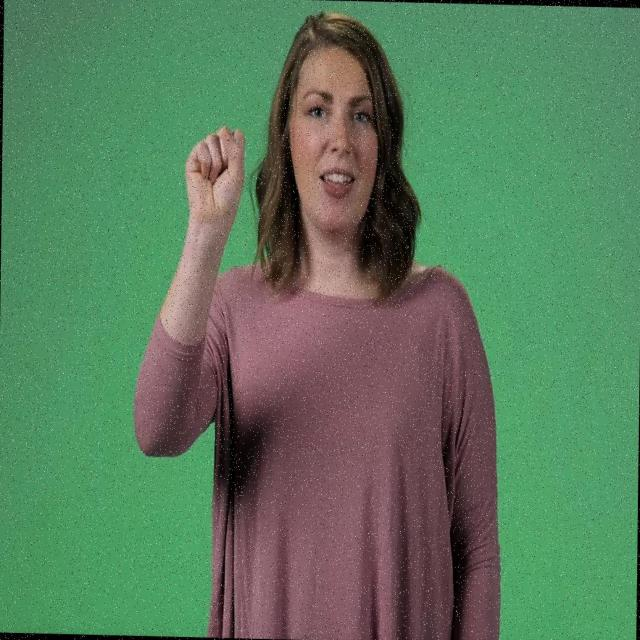S: (182, 125, 252, 230)
